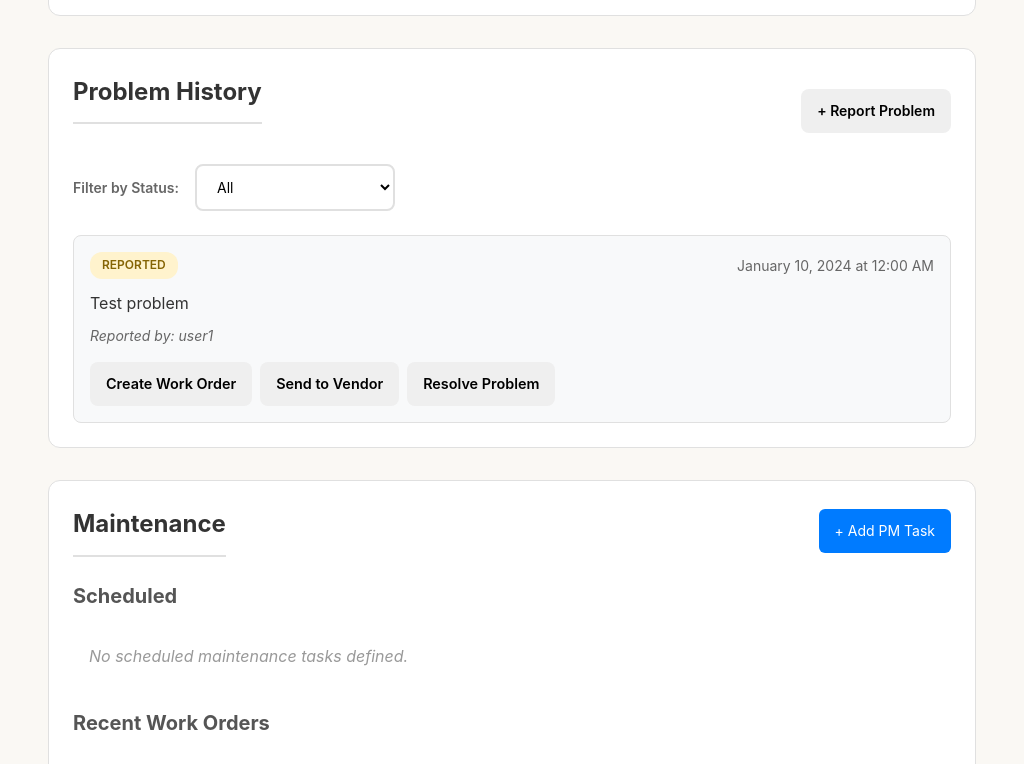
it: AssetDetailPage › promote problem to work order (op-ybpn) › creates an in-house work order and shows the WO link without a reload
(page scrolled)
Expected: the text "Test problem" is shown, x1=90 y1=293 x2=189 y2=313
Click the button "Create Work Order": (171, 384) x1=90 y1=362 x2=252 y2=406
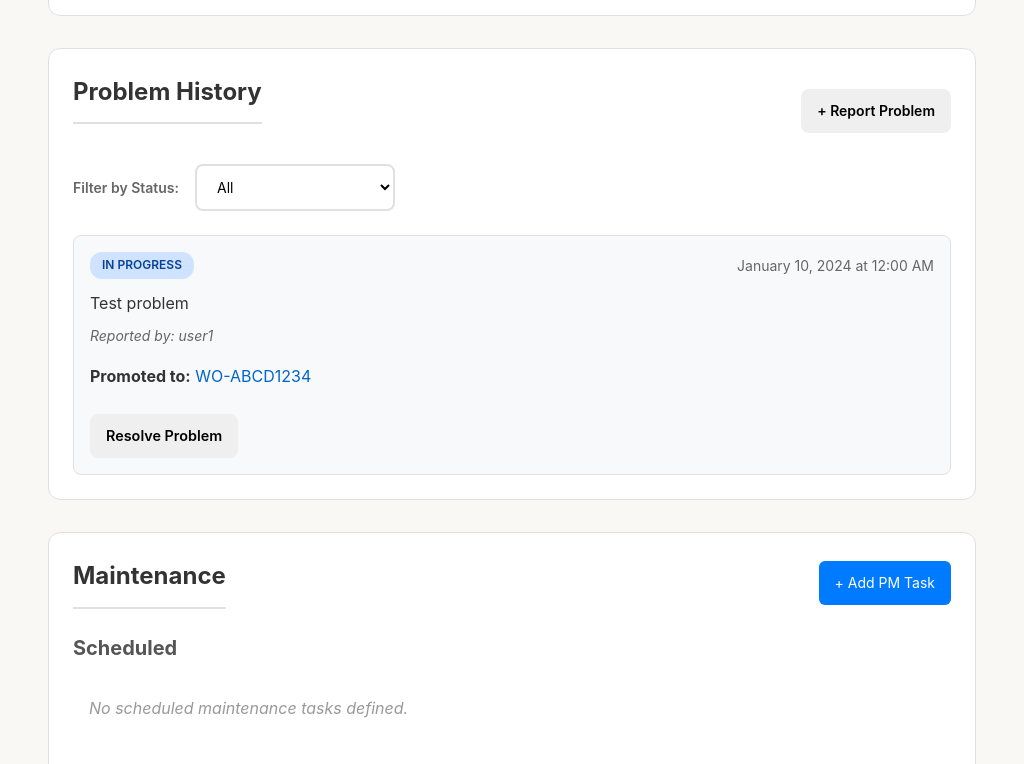
Expected: the button "Create Work Order" is gone
Expected: the button "Send to Vendor" is gone
